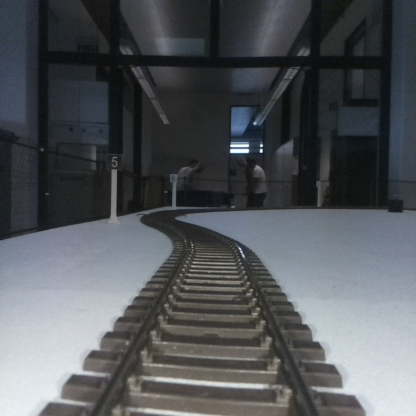black-info-5: (106, 153, 121, 222)
